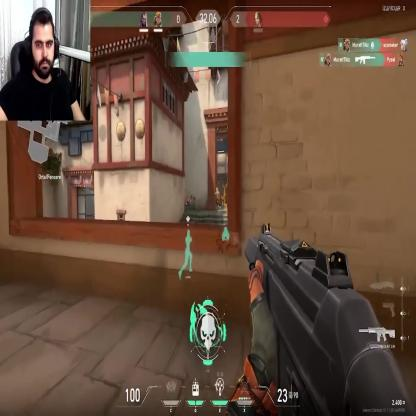enemy: (215, 188, 221, 208)
enemy_head: (216, 188, 219, 192)
